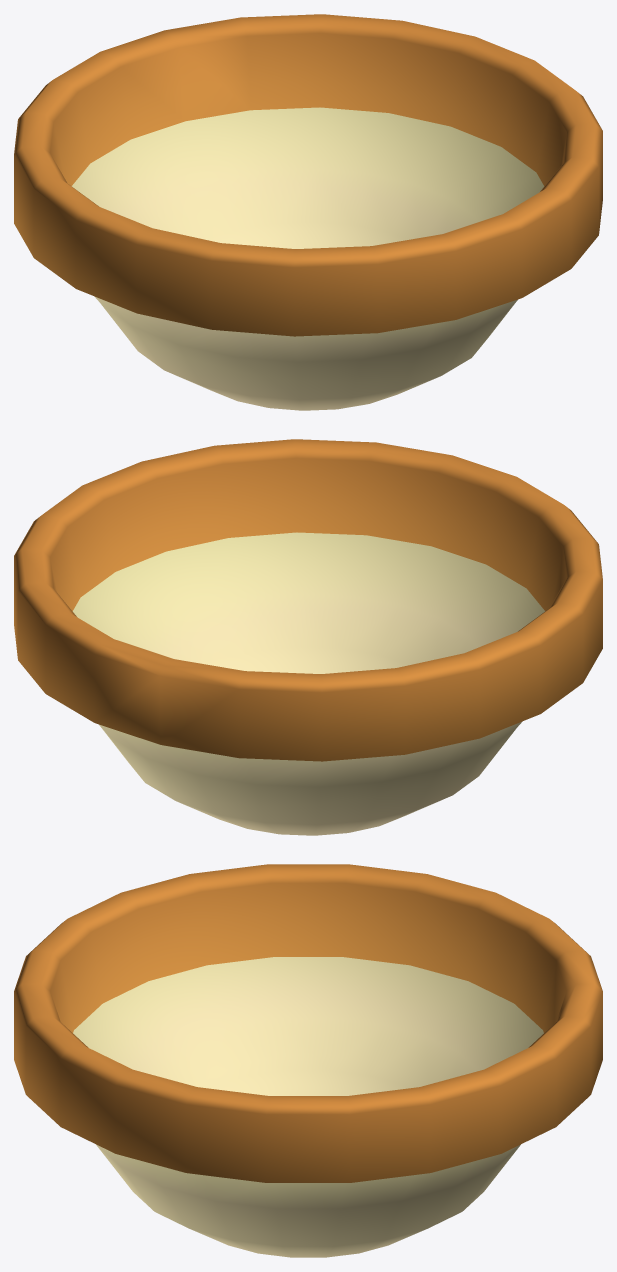
Rendered from BigPlate.fbx.
3 renders of one model, top to bottom at view 1: azimuth 30°, elevation 25°; view 2: azimuth 150°, elevation 25°; view 3: azimuth 270°, elevation 25°, orthographic.
Visible parts, largest first — view 1: Cylinder.020; view 2: Cylinder.020; view 3: Cylinder.020.
Part boxes in pixels (x1=…): Cylinder.020: x1=14, y1=14, x2=602, y2=410; Cylinder.020: x1=14, y1=439, x2=602, y2=835; Cylinder.020: x1=14, y1=864, x2=602, y2=1257.
Bounding box in the file's own units: 3.4 × 1.51 × 3.43.
